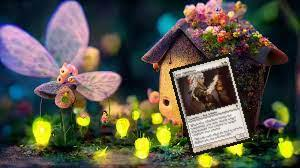mtgCard: (168, 53, 254, 157)
